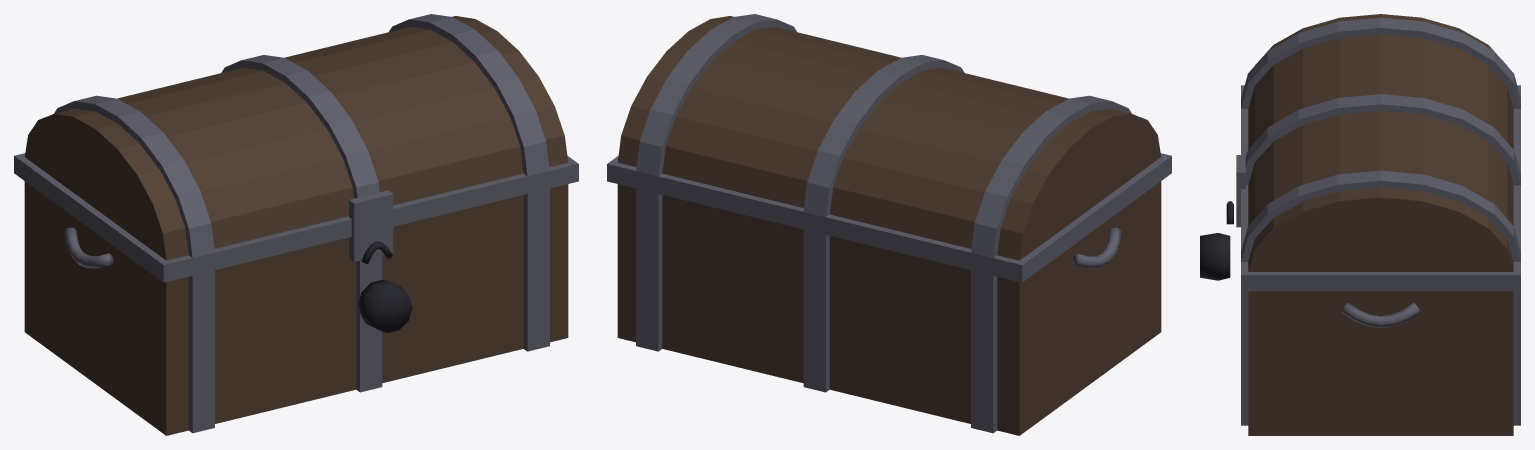
Rendered from chest.glb.
The picture shows the model from 3 angles, left to right: view 1: azimuth 30°, elevation 25°; view 2: azimuth 150°, elevation 25°; view 3: azimuth 270°, elevation 25°; orthographic projection. The views are drawn at different scales.
Visible parts, largest first — view 1: chest; view 2: chest; view 3: chest.
Part boxes in pixels (x1,y1,x2,y2): chest: [14, 14, 578, 435]; chest: [607, 14, 1171, 435]; chest: [1200, 14, 1520, 435].
Bounding box in the file's own units: 0.79 × 0.4484 × 0.532.
